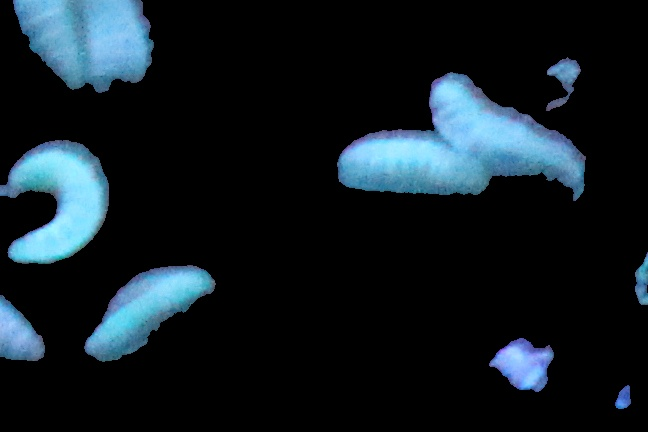larvae: (429, 82, 581, 180), (7, 146, 103, 264), (86, 269, 208, 358), (338, 133, 488, 198), (68, 1, 154, 95), (16, 1, 89, 94), (1, 285, 41, 367)
